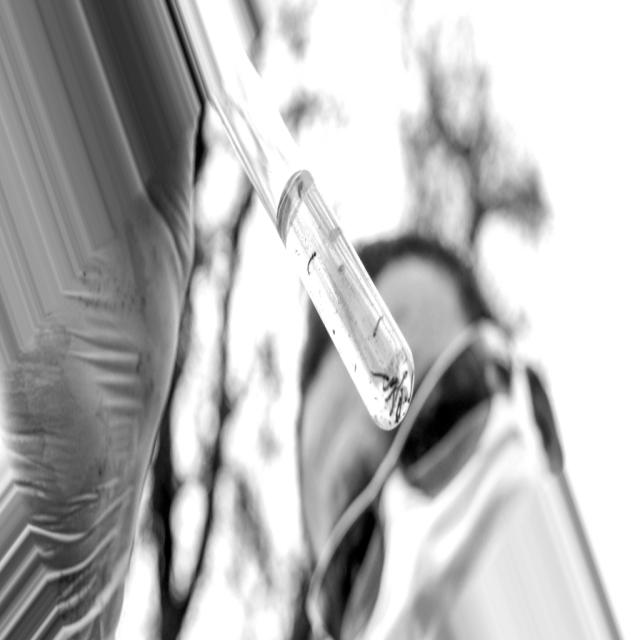larvas: (397, 370, 409, 392), (408, 371, 415, 404), (370, 369, 389, 381), (373, 314, 382, 337), (308, 251, 316, 275), (383, 376, 395, 392), (385, 386, 396, 403), (399, 388, 403, 420), (390, 377, 398, 389), (390, 396, 394, 416), (396, 403, 399, 422)
